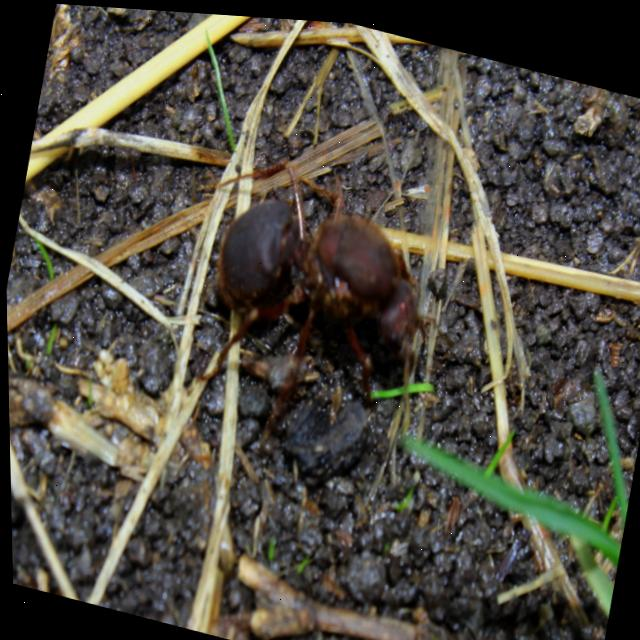Alive-Female-Dealate: (151, 132, 481, 470)
